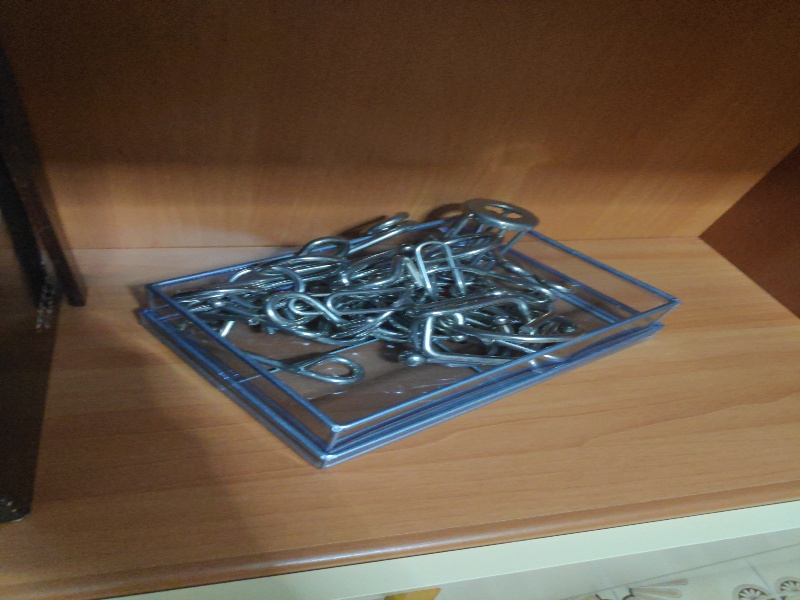games: (132, 197, 686, 473)
